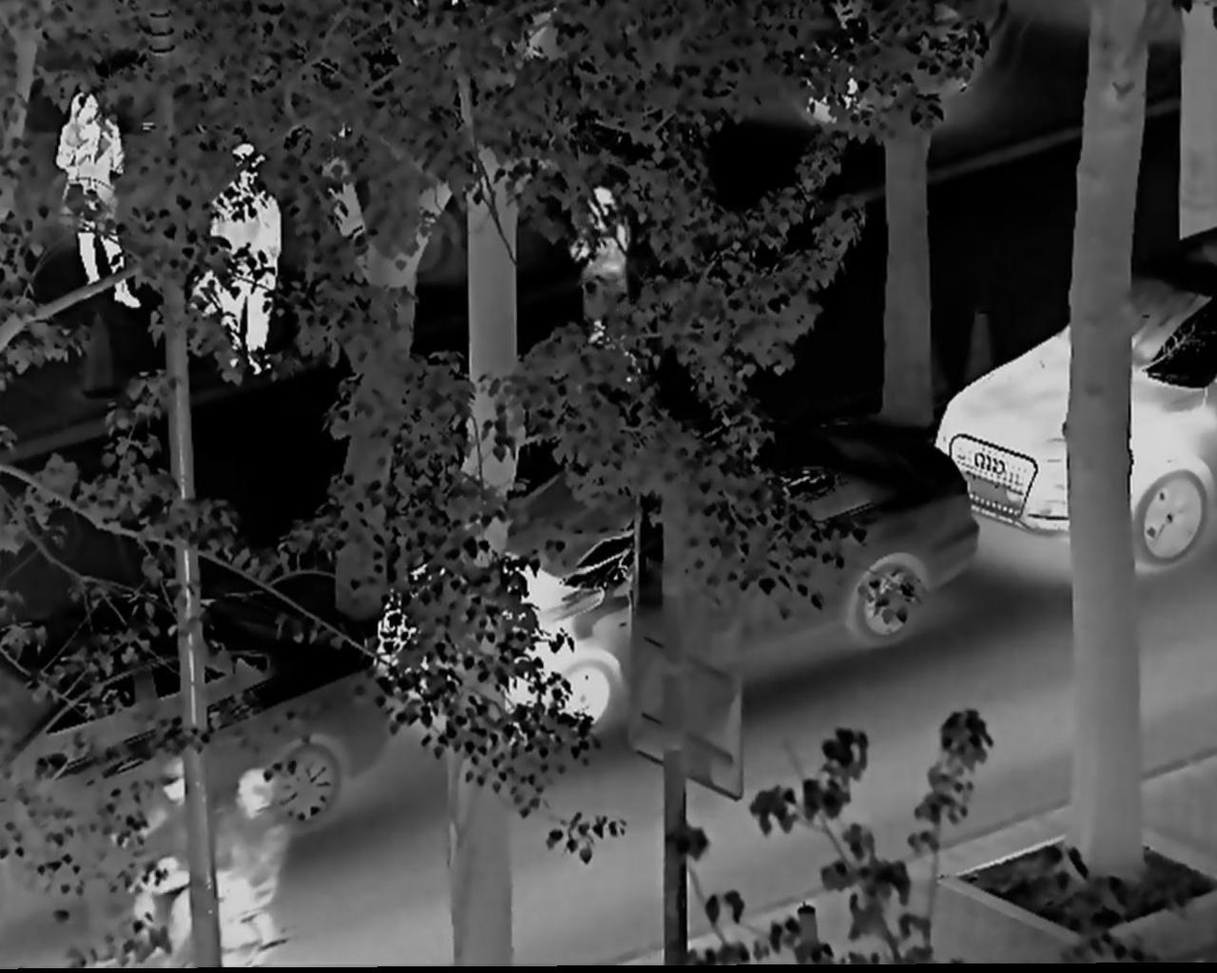person: (50, 88, 150, 320), (122, 751, 213, 944), (206, 138, 280, 374), (208, 762, 296, 941), (563, 183, 640, 334)
